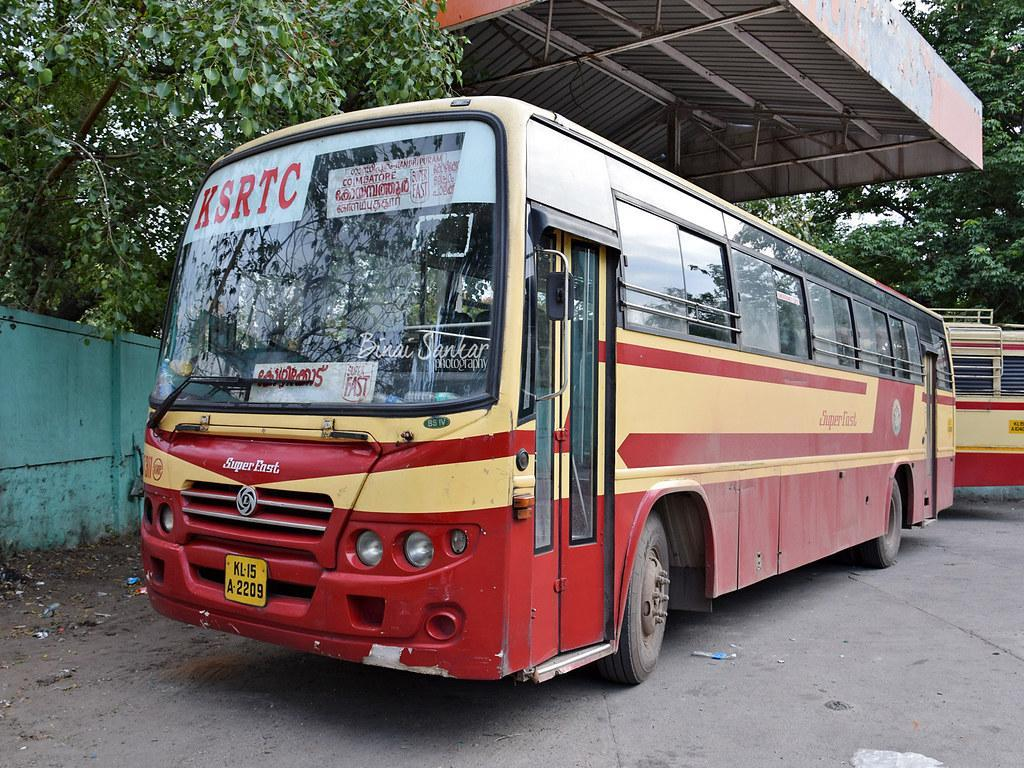Bus: (135, 101, 948, 687)
